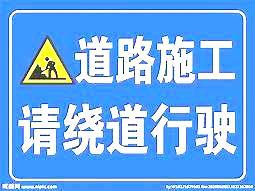sign: (7, 8, 249, 183)
